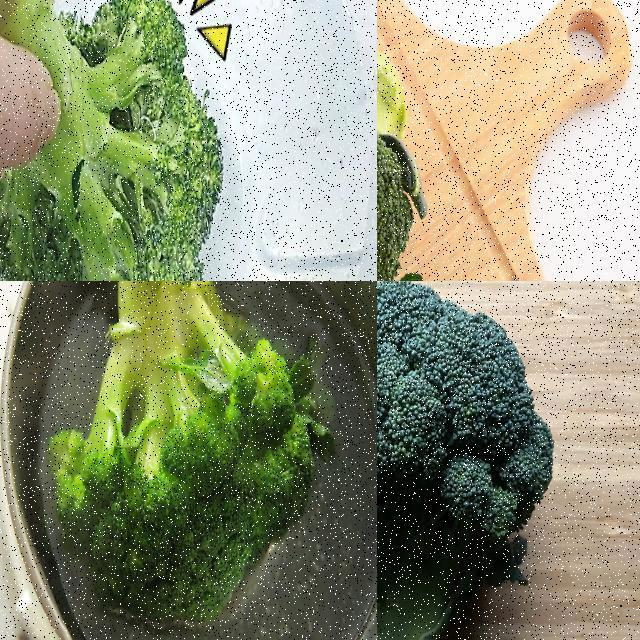broccoli: (50, 281, 312, 631), (377, 281, 562, 639), (0, 0, 226, 280)
